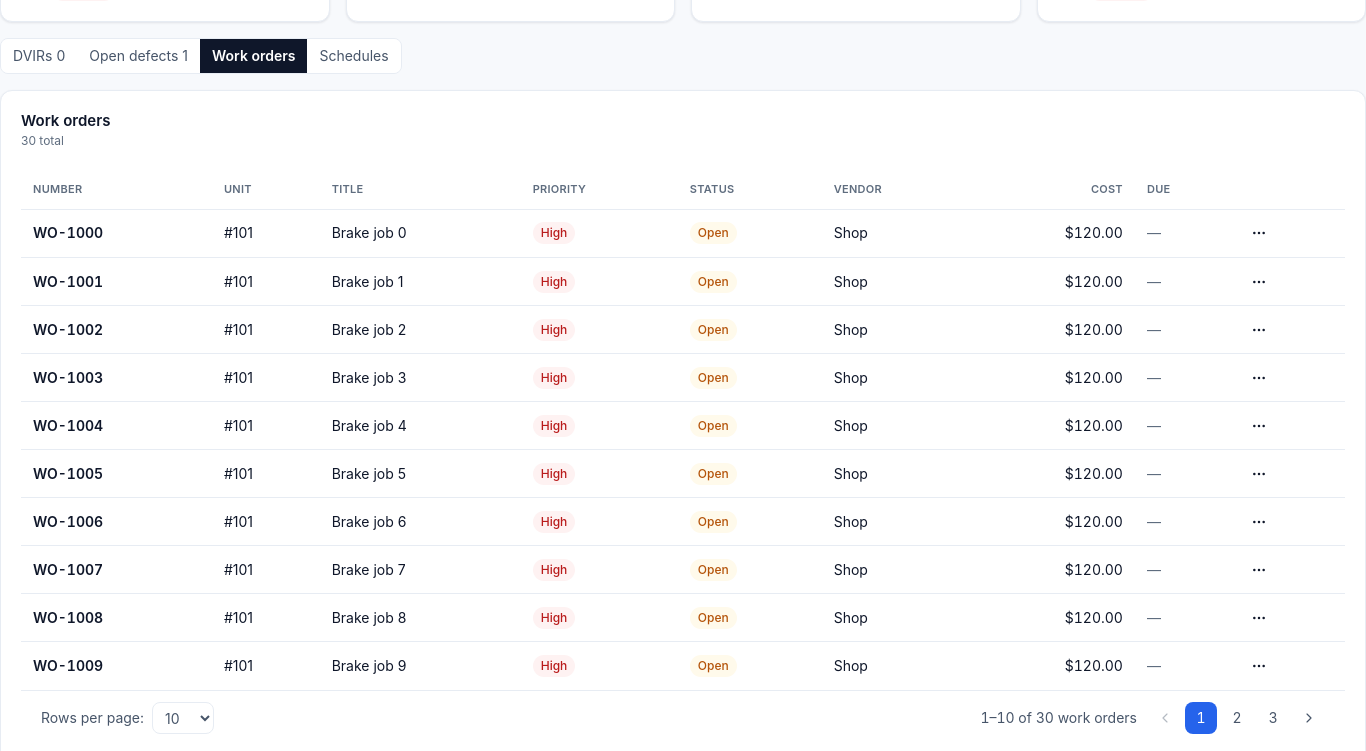
Test: DvirPage › work orders: a search typed on page 2 re-pages to page 1
(page scrolled)
Click the button "2".
click(1237, 718)  # box [1221,702,1253,734]
(page scrolled)
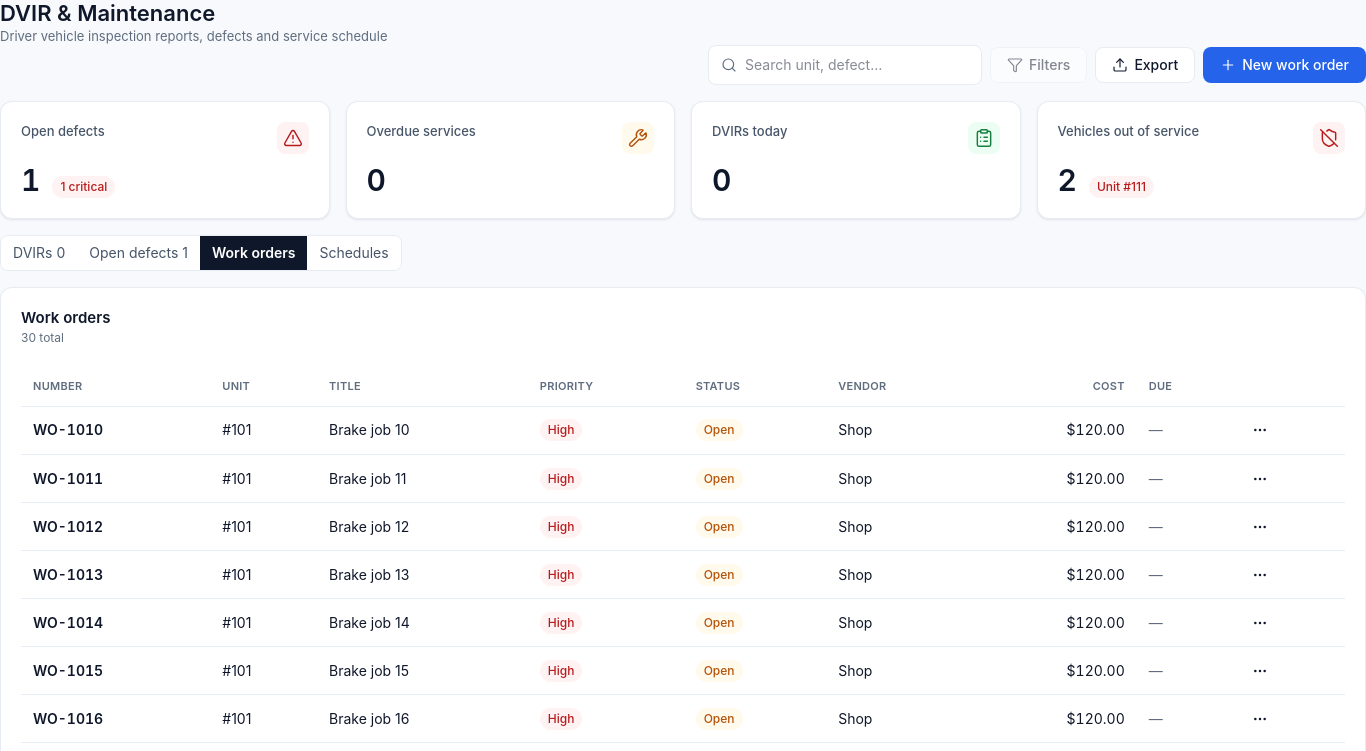
Check: the text "WO-1010" is shown, box [33,421,103,438]
Type "WO-1003" into the field with placeholder "Search unit, defect…".
click(857, 65); type("WO-1003")  # box [745,55,969,75]
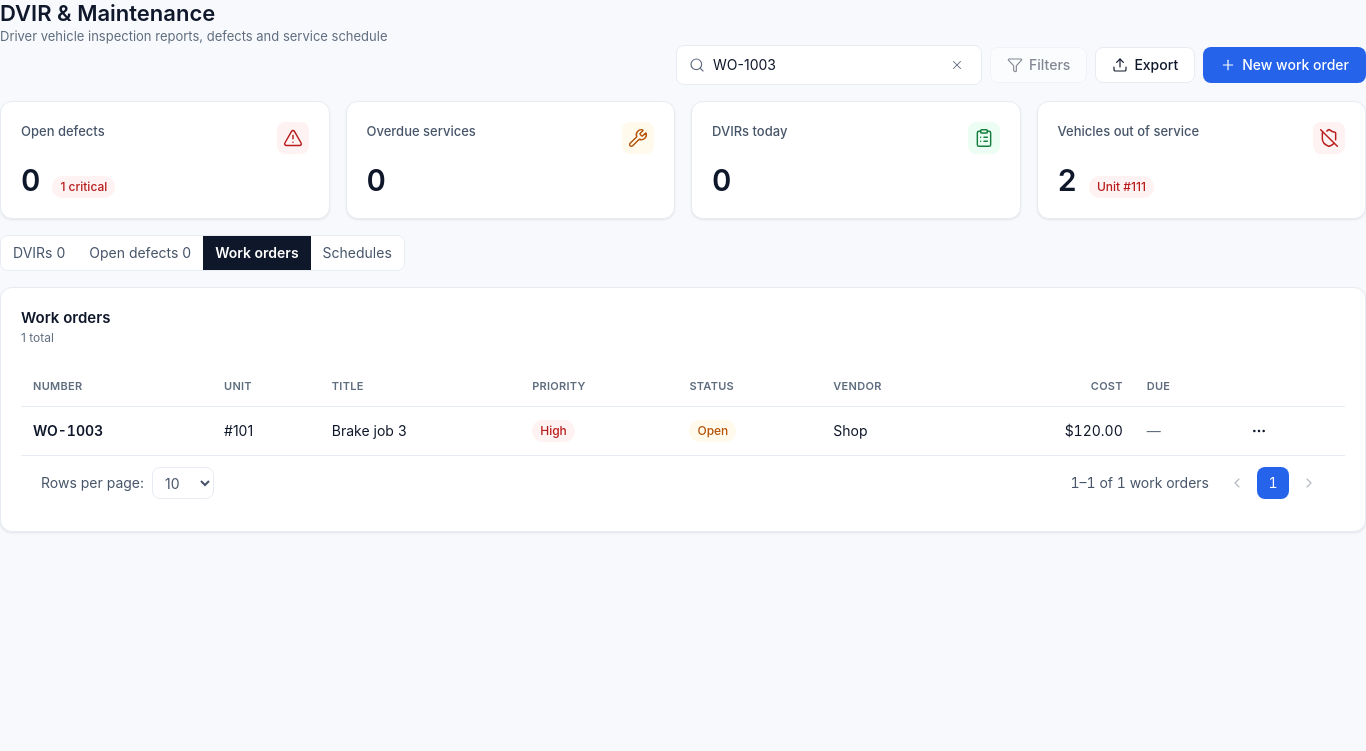
Check: the text "WO-1003" is shown, box [33,422,103,438]
